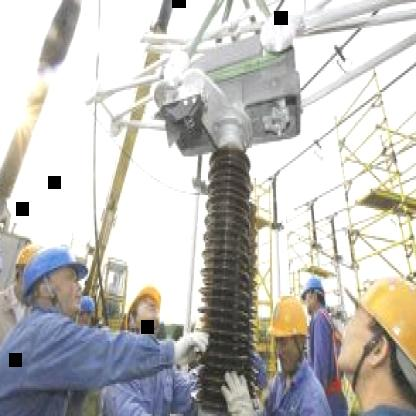helmet: (341, 272, 416, 412), (17, 236, 92, 320), (266, 294, 310, 371), (126, 281, 166, 337), (298, 272, 328, 318)
